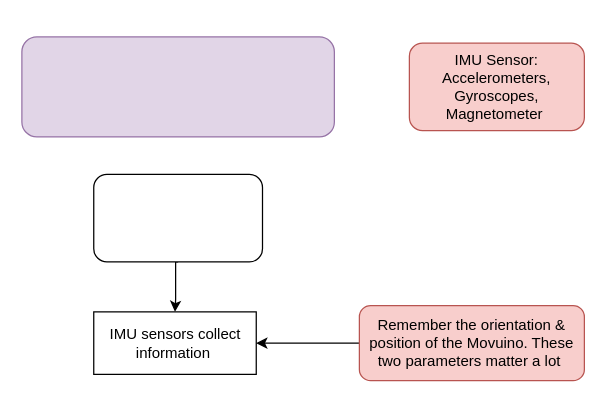
Some shapes in this 606 by 403 pixel diagram are drawn without their labels. The shapes that lost their labels are listed below. From the top down, each one's centre as x and y in pixels, then its label:
point (177, 86): Data Collection for Training the TinyML Model (IMU sensor as Example)
point (177, 217): Uploading Peripheral_Grab.ino to Movuino
